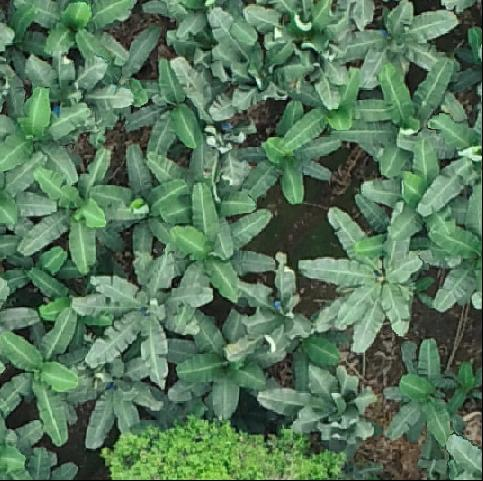Banana-plant: (297, 200, 425, 355), (69, 252, 202, 388), (18, 145, 150, 275), (338, 59, 477, 180), (0, 311, 113, 447), (164, 55, 275, 192), (196, 6, 316, 123), (163, 187, 279, 303), (227, 97, 345, 207), (244, 0, 363, 108), (176, 303, 275, 423), (222, 252, 322, 365), (336, 0, 459, 90), (381, 338, 474, 451), (67, 351, 174, 449), (258, 359, 379, 442), (21, 56, 133, 145), (0, 87, 95, 184), (0, 89, 94, 187), (125, 59, 204, 163), (14, 0, 135, 67), (423, 183, 483, 314), (0, 0, 51, 78), (438, 362, 483, 414)
